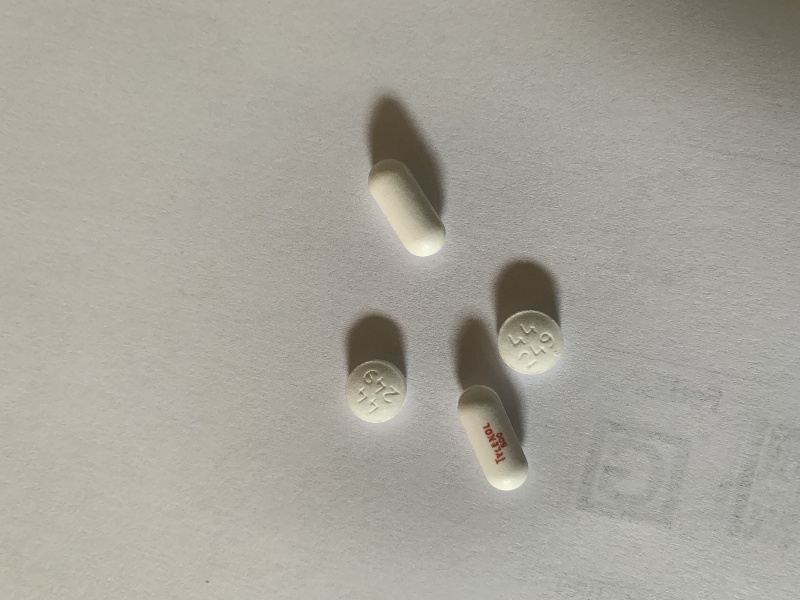Aspirin: (494, 306, 570, 377), (340, 356, 410, 426)
Tylenol: (446, 382, 538, 501), (354, 153, 455, 261)
